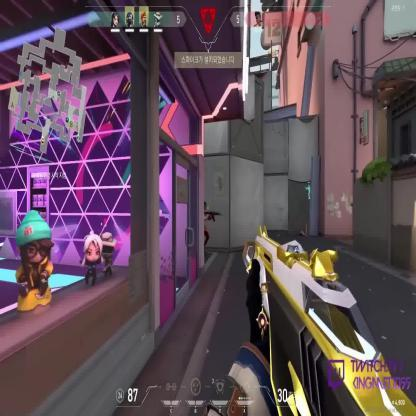enemy: (196, 200, 222, 258)
enemy_head: (203, 200, 207, 214)
